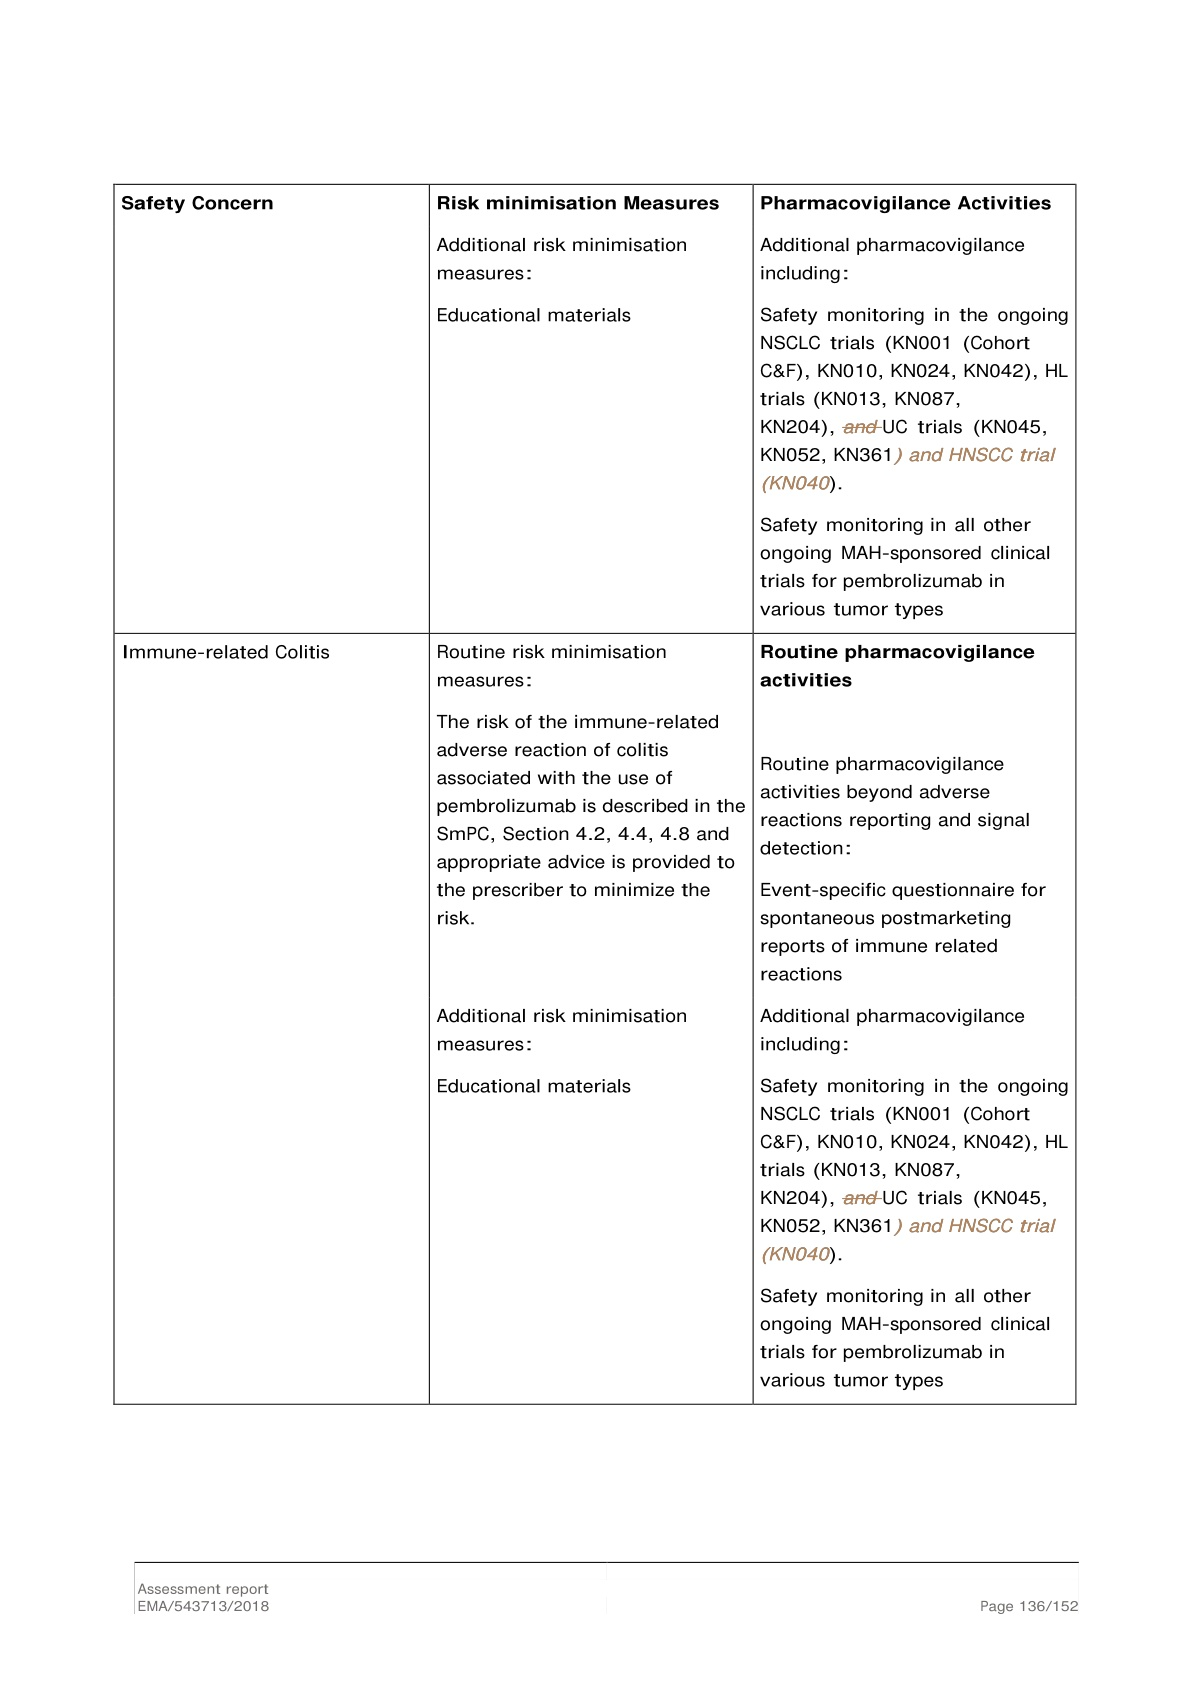partial_lined: (112, 182, 1077, 1406)
